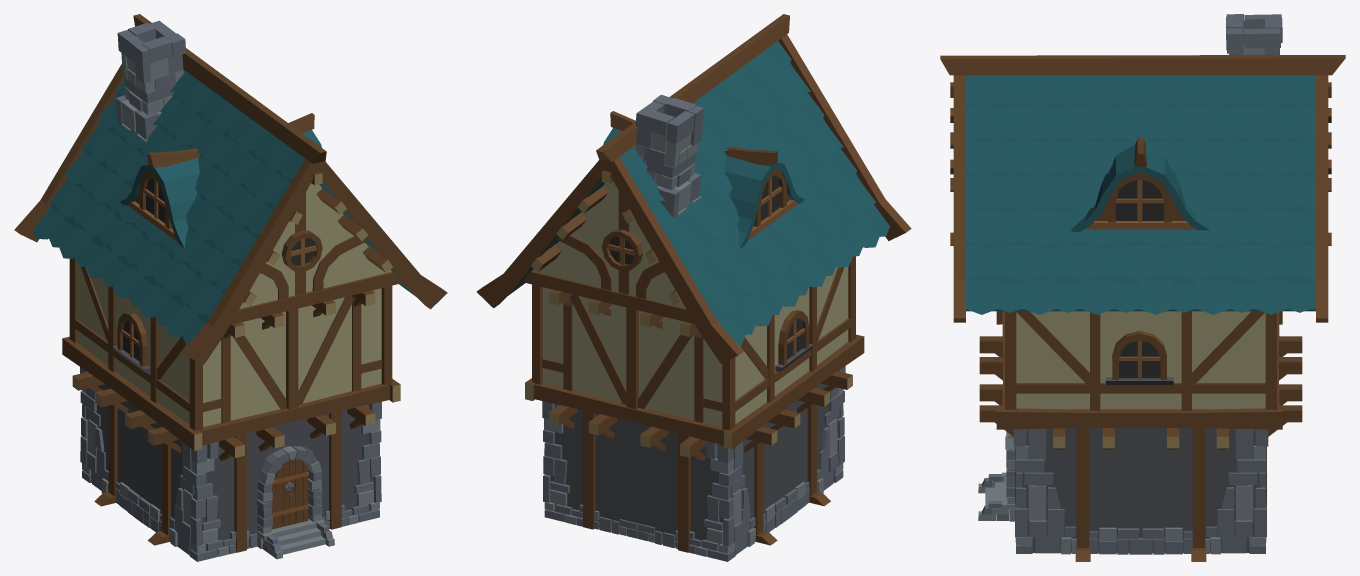
File: House_1.glb
3 views of the same model, side by side, from view 1: azimuth 30°, elevation 25°; view 2: azimuth 150°, elevation 25°; view 3: azimuth 270°, elevation 25° (orthographic). The views are drawn at different scales.
Visible parts, largest first — view 1: House_1; view 2: House_1; view 3: House_1.
Boxes of the visible parts, x1=… form: House_1: x1=14, y1=14, x2=447, y2=561; House_1: x1=476, y1=14, x2=911, y2=561; House_1: x1=940, y1=14, x2=1345, y2=561.
Size of the model in its own units: 2.14 by 3.39 by 2.66.
